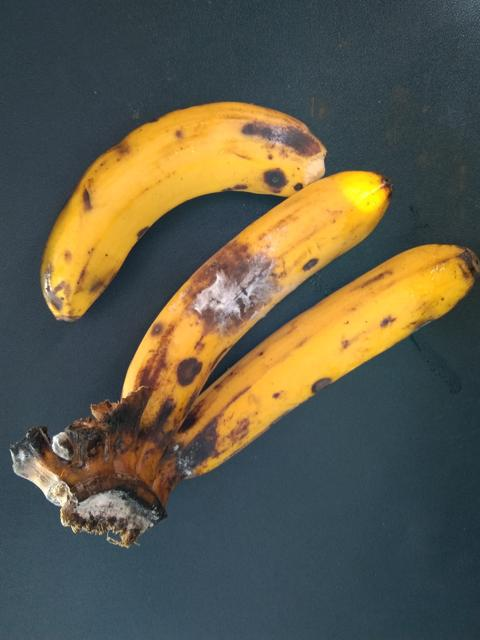ripe: (23, 77, 339, 315), (175, 242, 469, 475)
rotten: (119, 159, 388, 421)
